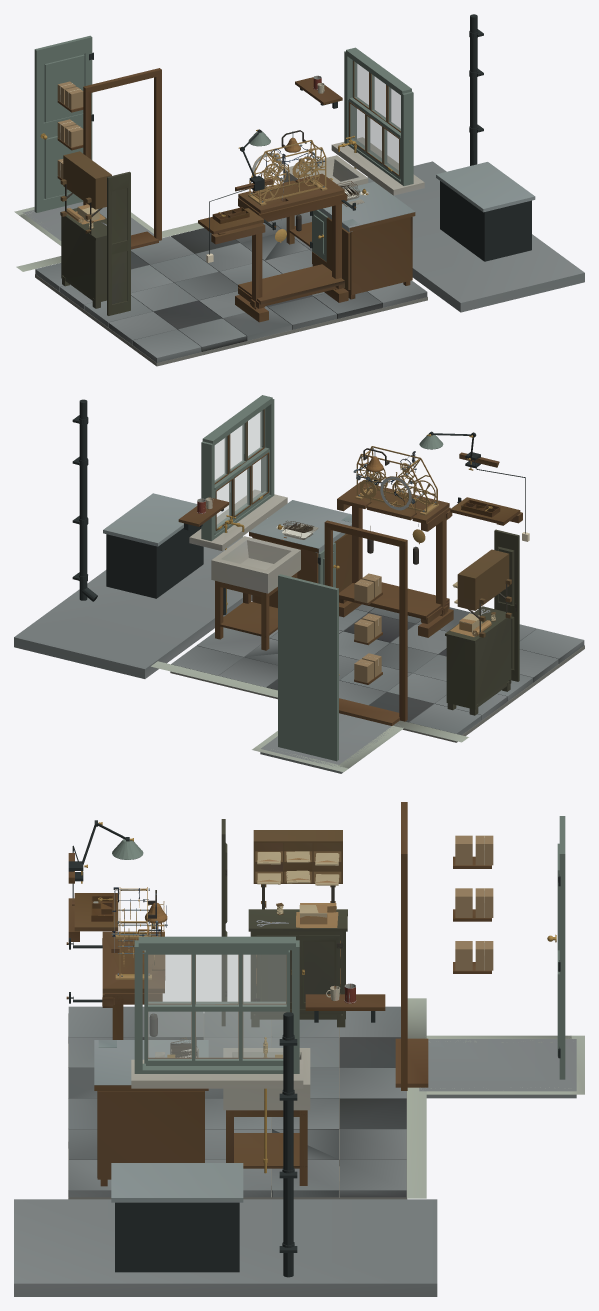
File: mini.glb
3 renders of one model, top to bottom at view 1: azimuth 30°, elevation 25°; view 2: azimuth 150°, elevation 25°; view 3: azimuth 270°, elevation 25°, orthographic. The views are drawn at different scales.
Visible parts, largest first — view 1: native/going_cord, native/hammer_return_spring, part/window_and_courtyard/lower_glazing; view 2: native/hammer_return_spring, native/going_cord, part/window_and_courtyard/lower_glazing; view 3: native/hammer_return_spring, native/going_cord, part/window_and_courtyard/lower_glazing.
Part boxes in pixels (x1,y1,x2,y2): native/going_cord: [35, 61, 427, 362]; native/hammer_return_spring: [14, 14, 584, 366]; part/window_and_courtyard/lower_glazing: [351, 63, 400, 173]; native/hammer_return_spring: [14, 395, 584, 773]; native/going_cord: [171, 409, 584, 735]; part/window_and_courtyard/lower_glazing: [215, 411, 266, 527]; native/hammer_return_spring: [14, 816, 584, 1296]; native/going_cord: [66, 802, 491, 1197]; part/window_and_courtyard/lower_glazing: [148, 955, 286, 1059].
Bounding box in the file's own units: 5.58 × 2.5 × 4.72.
8 materials, 8 textured.
